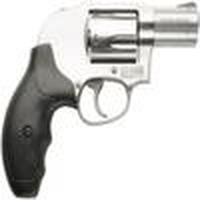gun: (3, 2, 200, 192)
